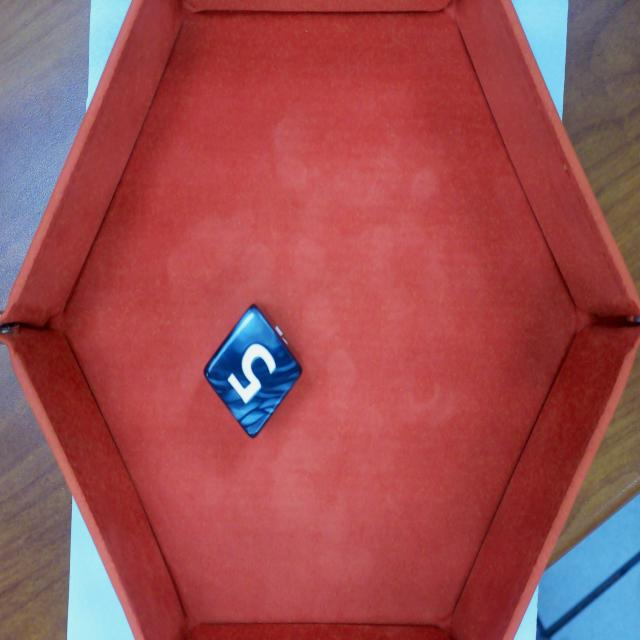dice: (207, 301, 304, 439)
